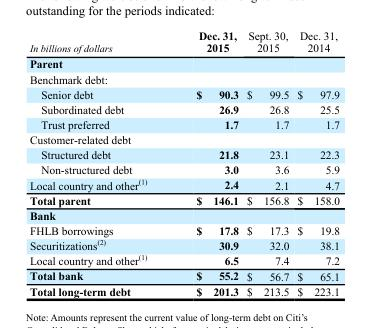table: (28, 29, 339, 297)
table column: (28, 29, 170, 297), (170, 29, 242, 297), (242, 29, 292, 297), (292, 29, 339, 297)
table column header: (28, 29, 339, 55)
table projected row header: (28, 55, 339, 71), (28, 71, 339, 86), (28, 131, 339, 146), (28, 207, 339, 222)
table row: (28, 29, 339, 55), (28, 55, 339, 71), (28, 176, 339, 192), (28, 252, 339, 268), (28, 71, 339, 86), (28, 86, 339, 101), (28, 101, 339, 116), (28, 116, 339, 131), (28, 131, 339, 146), (28, 146, 339, 161), (28, 161, 339, 176), (28, 192, 339, 207), (28, 207, 339, 222), (28, 222, 339, 237), (28, 237, 339, 252), (28, 268, 339, 283), (28, 283, 339, 297)
